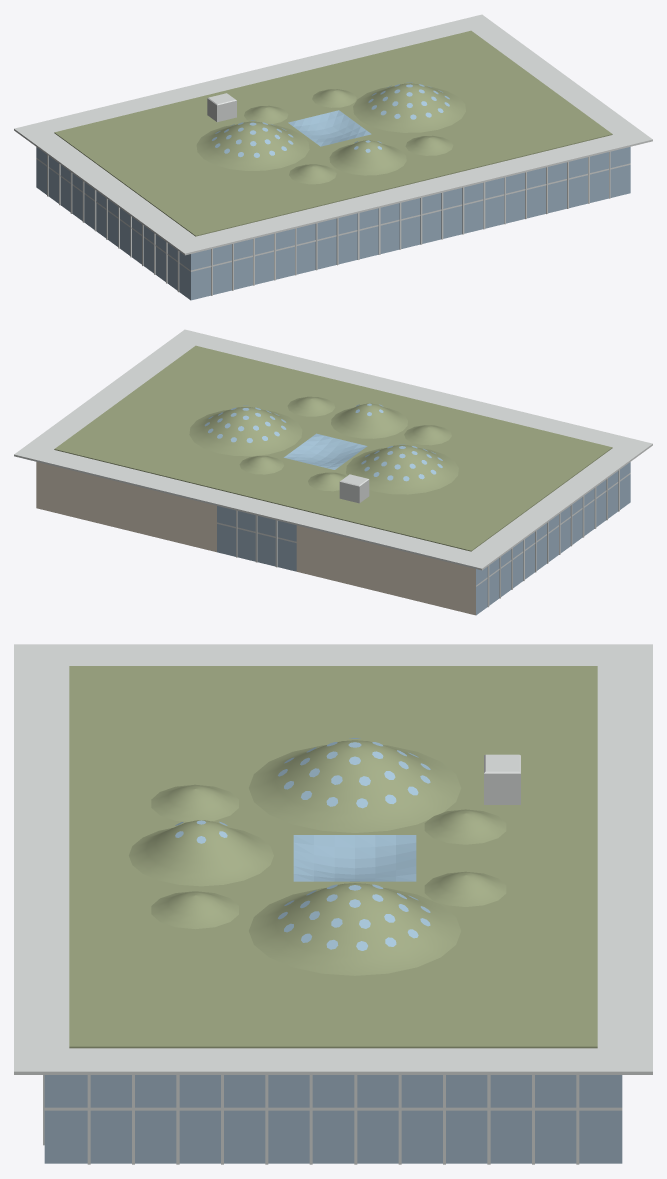
The model's file is sf-cal-academy.glb.
3 renders of one model, top to bottom at view 1: azimuth 30°, elevation 25°; view 2: azimuth 150°, elevation 25°; view 3: azimuth 270°, elevation 25°, orthographic. The views are drawn at different scales.
Parts seen in each view (by area): view 1: California Academy of Sciences; view 2: California Academy of Sciences; view 3: California Academy of Sciences.
Part boxes in pixels (left/top/right/bottom): California Academy of Sciences: left=14, top=14, right=652, bottom=300; California Academy of Sciences: left=14, top=329, right=652, bottom=615; California Academy of Sciences: left=14, top=644, right=652, bottom=1164.
Bounding box in the file's own units: 164 × 26.95 × 104.
